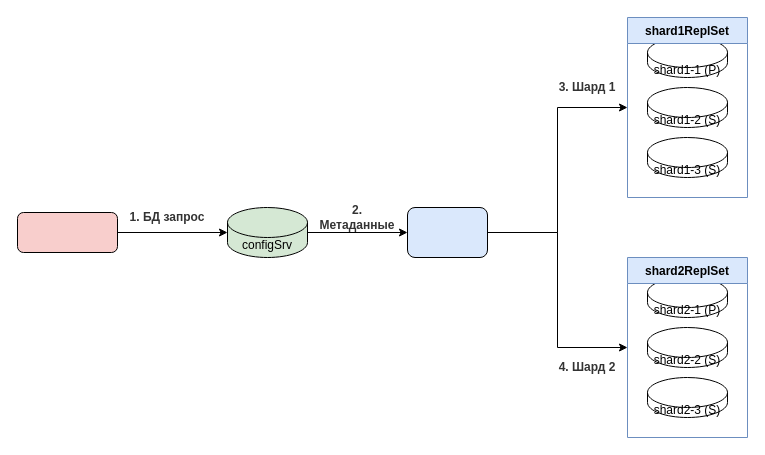
This 765x455 diagram has some shape labels left out. Here are the shapes that lost their labels. From the top down, the centre of each, then its label:
the point at 67,232: pymongo-api
the point at 447,232: mongos
